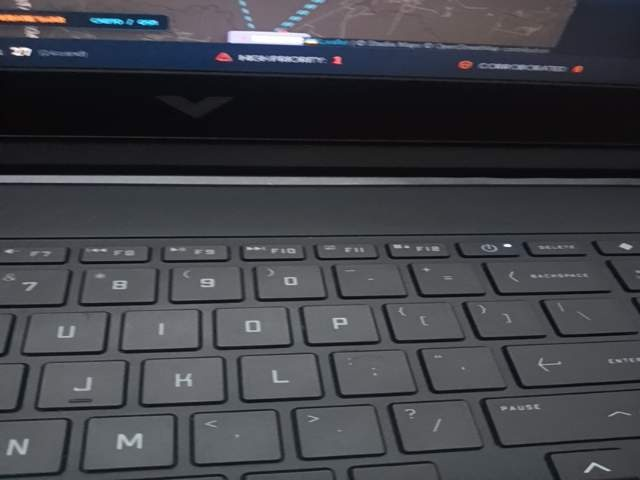pothole: (104, 306, 313, 464), (104, 335, 313, 480), (104, 403, 312, 480), (536, 403, 640, 480)
